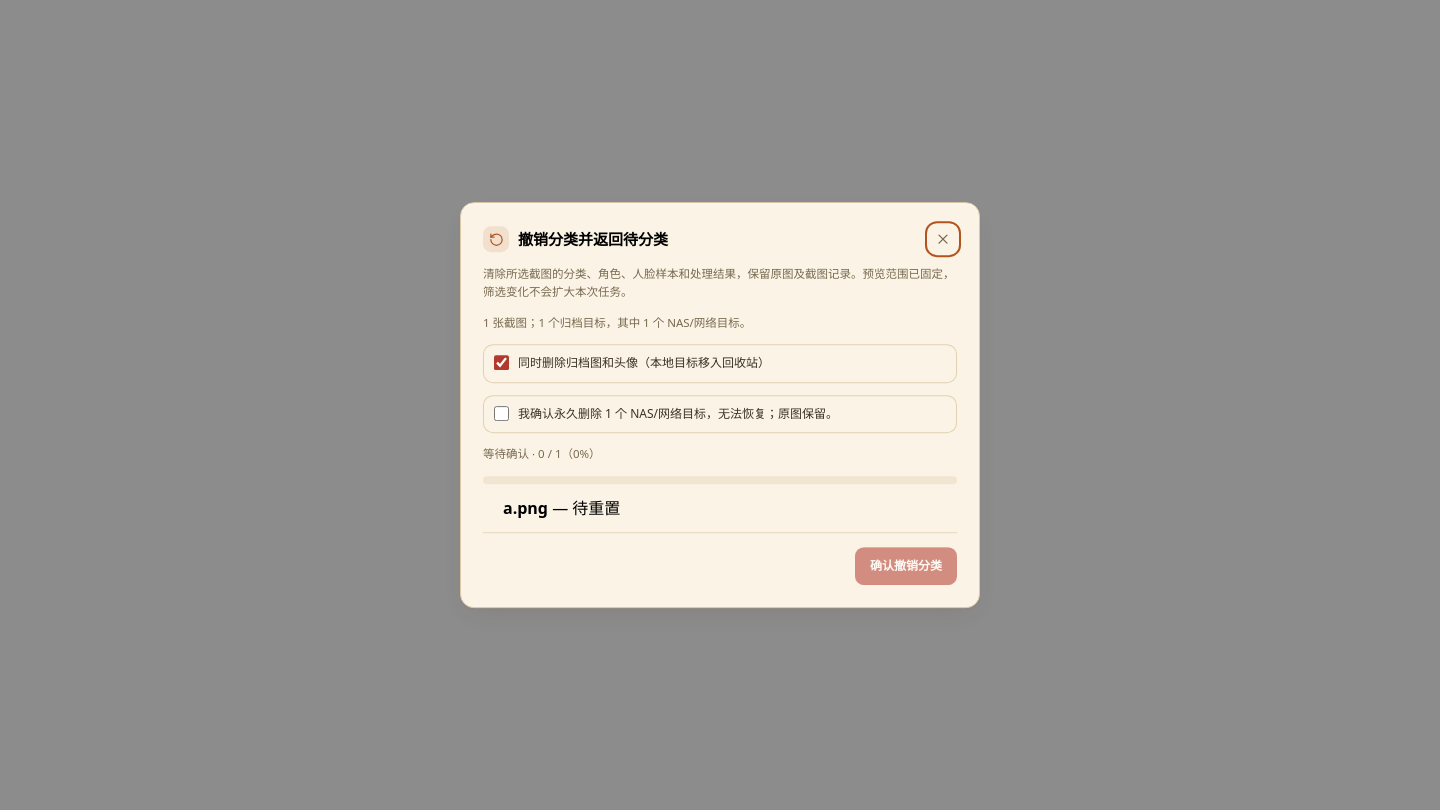
CaptureResetDialog › requires explicit NAS confirmation before deleting network targets
Expected: the button "确认撤销分类" is disabled, [855,547,957,585]
Click the checkbox labelled "我确认永久删除 1 个 NAS/网络目标，无法恢复；原图保留。" at x=502, y=413, box [494,406,509,421]
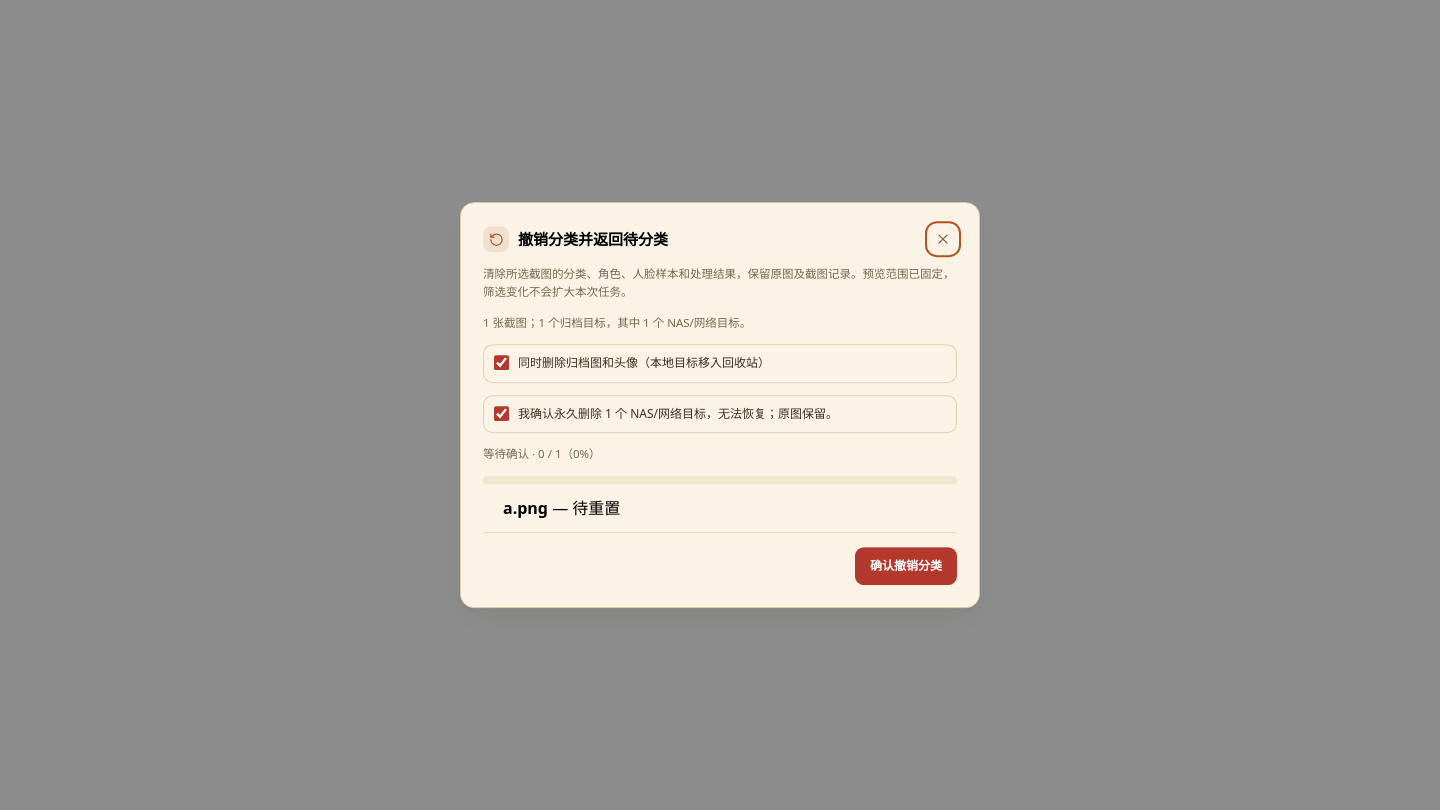
Expected: the button "确认撤销分类" is enabled, [855,547,957,585]
